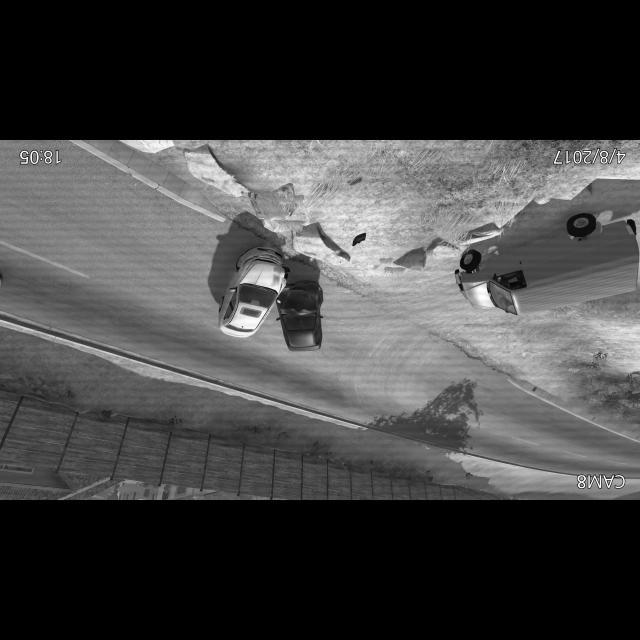moderate: (216, 247, 326, 353)
